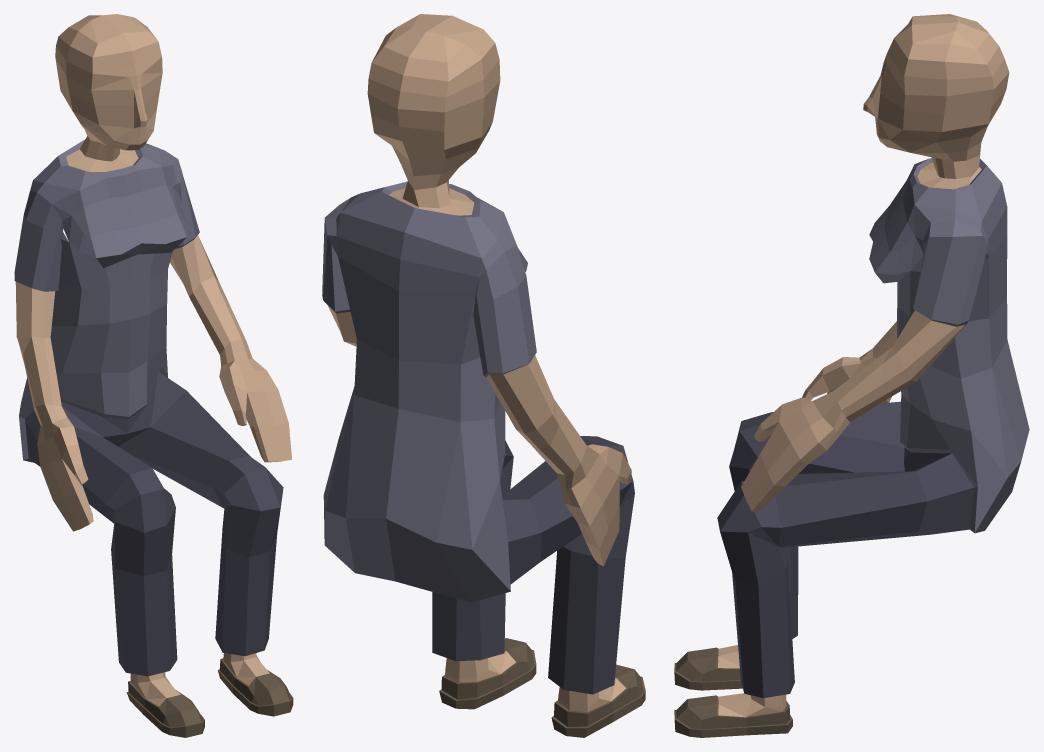
Rendered from croupier_sitting.glb.
3 views of the same model, side by side, from view 1: azimuth 30°, elevation 25°; view 2: azimuth 150°, elevation 25°; view 3: azimuth 270°, elevation 25° (orthographic). The views are drawn at different scales.
Visible parts, largest first — view 1: Female_Sitting_Cylinder.005; view 2: Female_Sitting_Cylinder.005; view 3: Female_Sitting_Cylinder.005.
Boxes of the visible parts, x1,y1,x2,y2 form: Female_Sitting_Cylinder.005: (14,14,293,737); Female_Sitting_Cylinder.005: (322,14,645,737); Female_Sitting_Cylinder.005: (674,14,1029,737).
Bounding box in the file's own units: 1.02 × 2.97 × 1.41.
